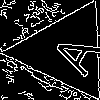A: (40, 26, 100, 78)
